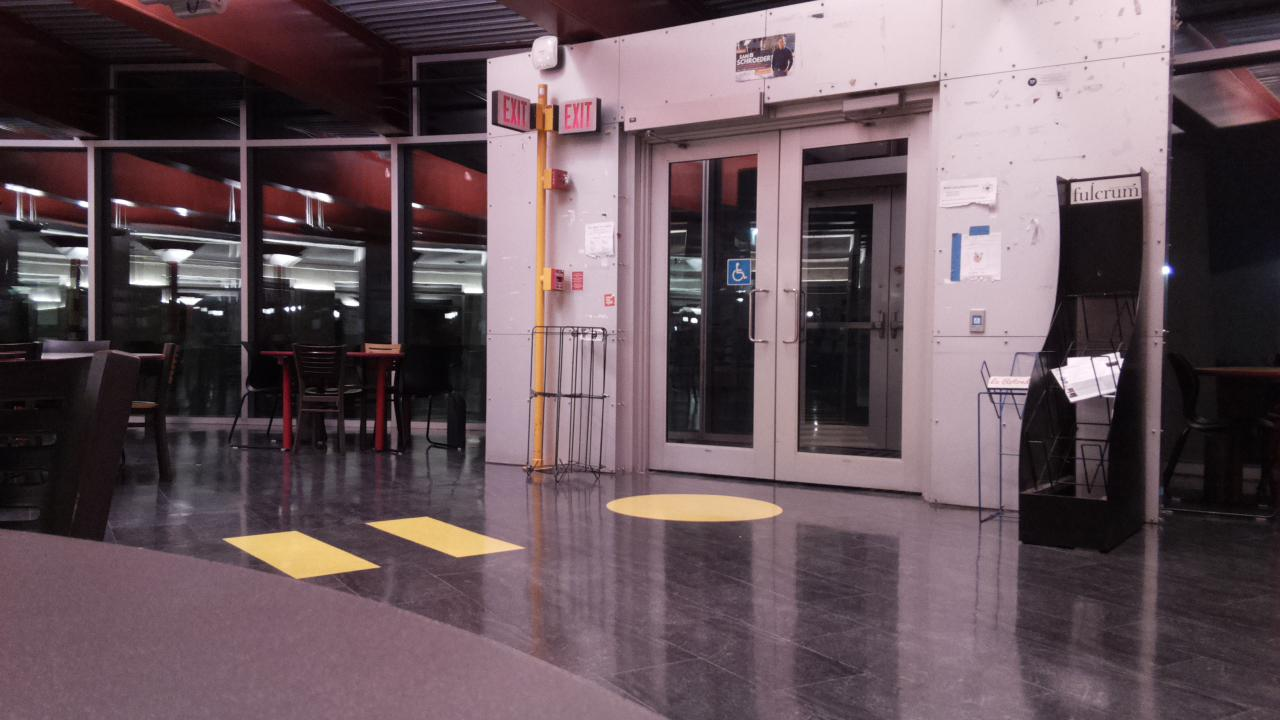door: (649, 114, 925, 492)
sign: (559, 99, 595, 132), (498, 91, 528, 130), (728, 259, 750, 284)
